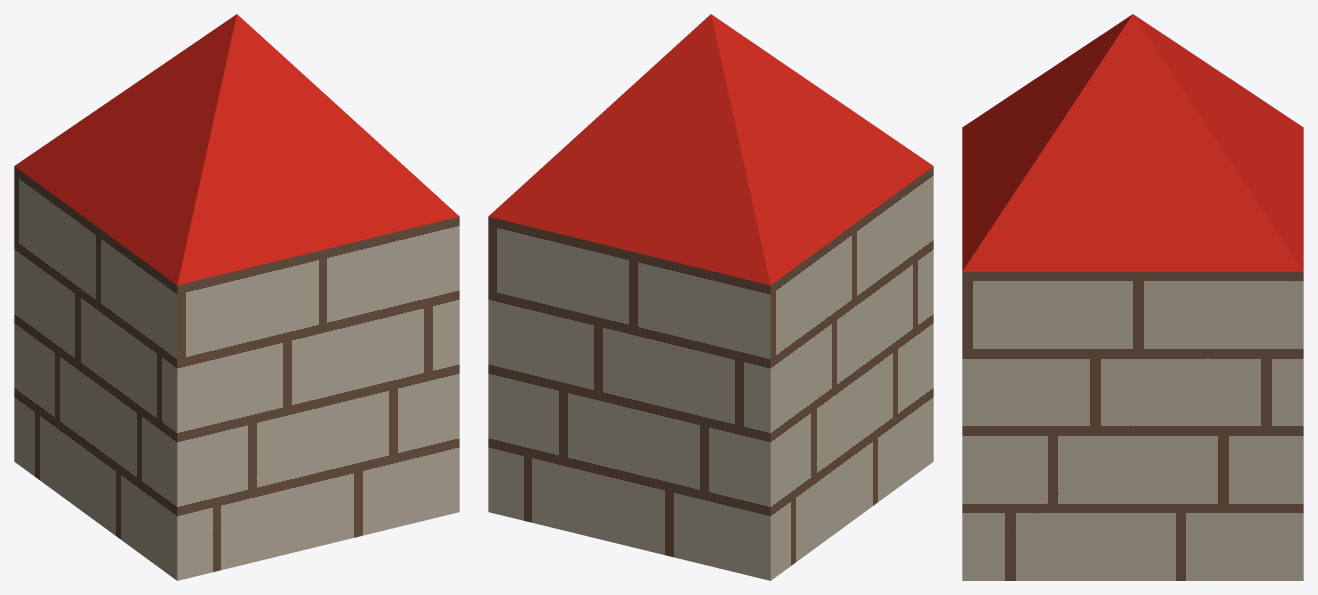
Rendered from house.fbx.
3 renders of one model, left to right at view 1: azimuth 30°, elevation 25°; view 2: azimuth 150°, elevation 25°; view 3: azimuth 270°, elevation 25°, orthographic. The views are drawn at different scales.
Parts seen in each view (by area): view 1: House; view 2: House; view 3: House.
Boxes of the visible parts, x1,y1,x2,y2 form: House: (14, 14, 459, 580); House: (488, 14, 933, 580); House: (962, 14, 1303, 580).
Size of the model in its own units: 200 by 200 by 320.
2 materials, 1 textured.
